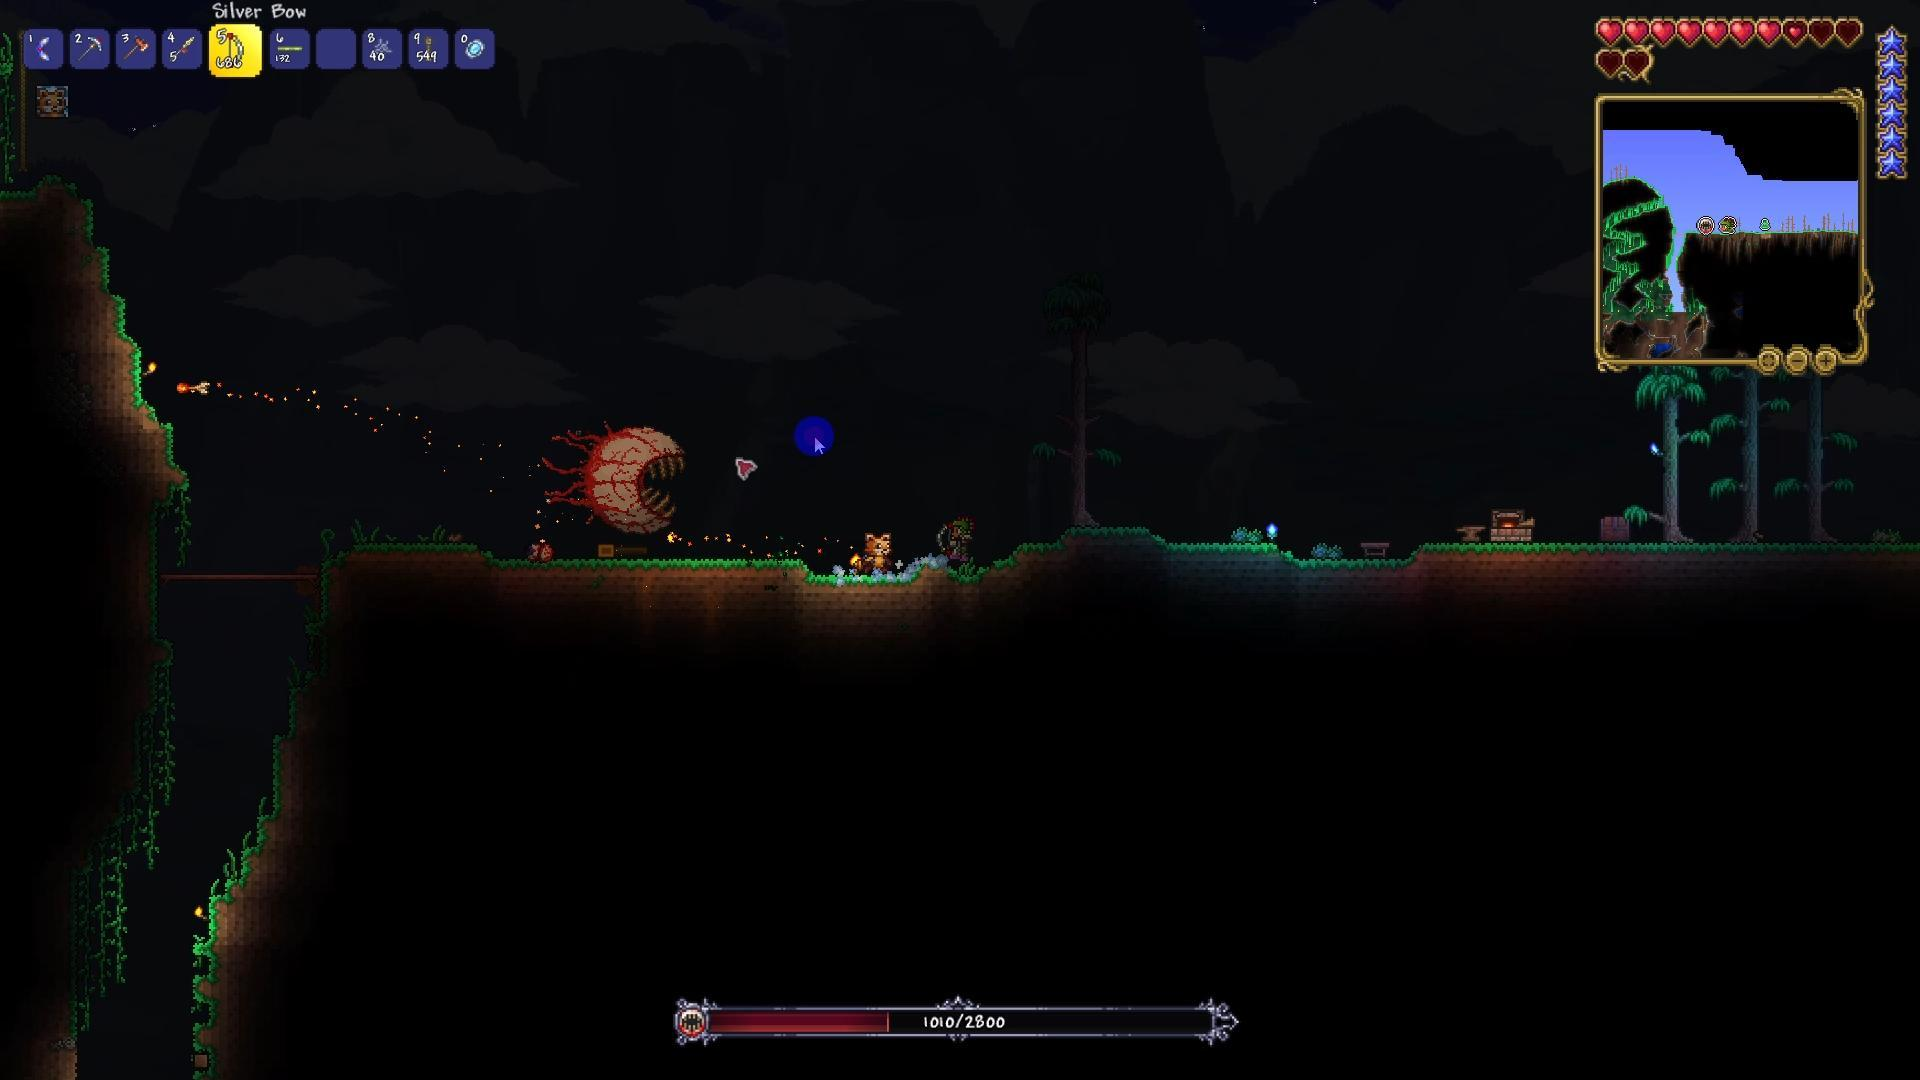dirt: (37, 177, 203, 488), (320, 531, 823, 611), (1414, 531, 1919, 593), (240, 622, 348, 865), (1054, 513, 1349, 587), (112, 501, 183, 703), (190, 877, 237, 1067), (1284, 541, 1420, 589)
